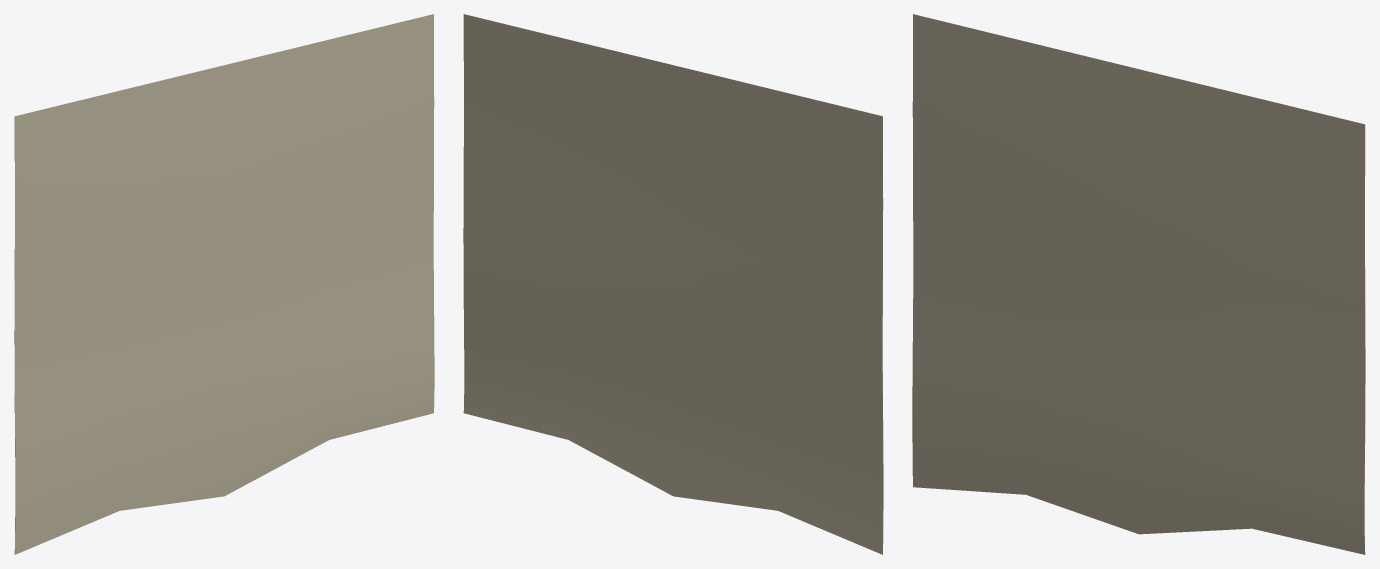
Rendered from hanging-seal-lod0.fbx.
3 views of the same model, side by side, from view 1: azimuth 30°, elevation 25°; view 2: azimuth 150°, elevation 25°; view 3: azimuth 330°, elevation 25° (orthographic). The views are drawn at different scales.
Parts seen in each view (by area): view 1: Curled torn ceremonial strip; view 2: Curled torn ceremonial strip; view 3: Curled torn ceremonial strip.
Part boxes in pixels (x1=…): Curled torn ceremonial strip: x1=14, y1=14, x2=434, y2=554; Curled torn ceremonial strip: x1=463, y1=14, x2=883, y2=554; Curled torn ceremonial strip: x1=912, y1=14, x2=1365, y2=554.
Bounding box in the file's own units: 100 × 100 × 0.6103.
